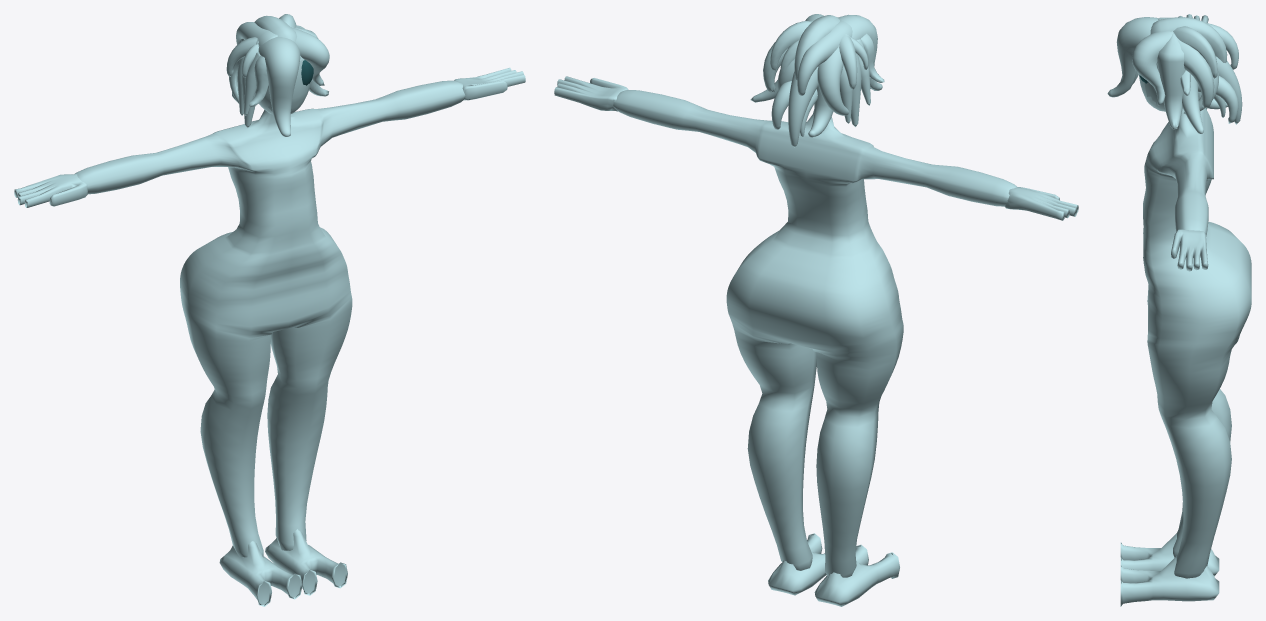
The model's file is TwinkModel.fbx.
The picture shows the model from 3 angles, left to right: view 1: azimuth 30°, elevation 25°; view 2: azimuth 150°, elevation 25°; view 3: azimuth 270°, elevation 25°; orthographic projection. The views are drawn at different scales.
Visible parts, largest first — view 1: polySurface4; view 2: polySurface4; view 3: polySurface4.
Boxes of the visible parts, x1=… form: polySurface4: x1=14, y1=14, x2=525, y2=606; polySurface4: x1=554, y1=14, x2=1078, y2=606; polySurface4: x1=1107, y1=14, x2=1251, y2=606.
Bounding box in the file's own units: 9.07 × 9.58 × 2.19.
